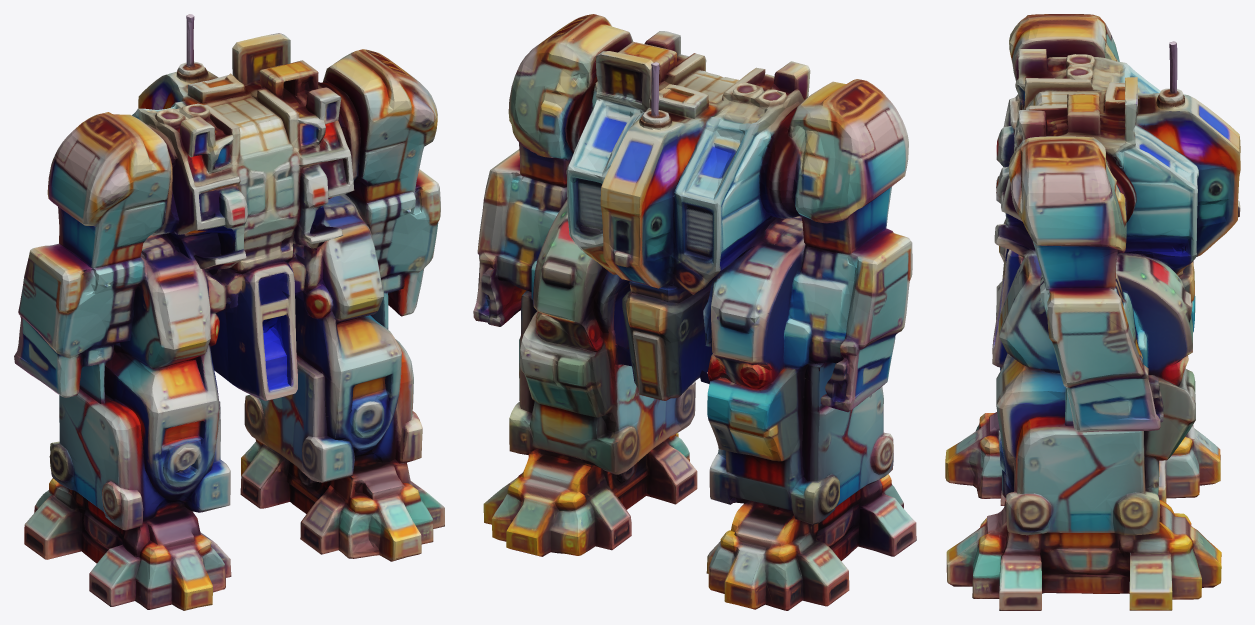
The picture shows the model from 3 angles, left to right: view 1: azimuth 30°, elevation 25°; view 2: azimuth 150°, elevation 25°; view 3: azimuth 270°, elevation 25°; orthographic projection. The views are drawn at different scales.
Visible parts, largest first — view 1: world; view 2: world; view 3: world.
Boxes of the visible parts, left/top/right/bottom form: world: left=14, top=14, right=444, bottom=610; world: left=473, top=14, right=916, bottom=610; world: left=945, top=14, right=1240, bottom=610.
Size of the model in its own units: 0.8173 by 1 by 0.5507.
1 material, 1 textured.
